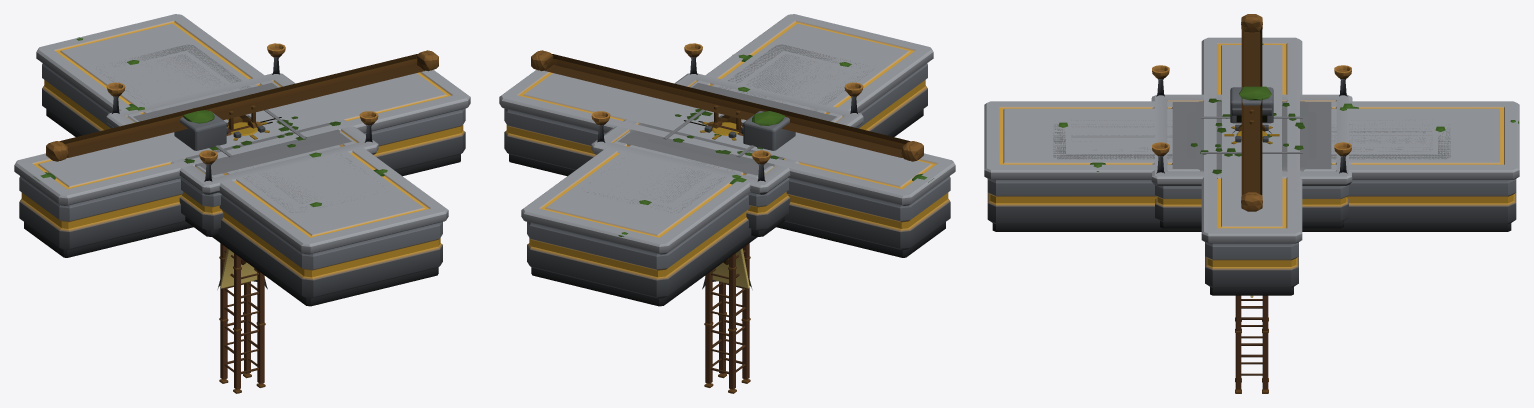
Rendered from temple-1-Dt1kCQQ2.glb.
The picture shows the model from 3 angles, left to right: view 1: azimuth 30°, elevation 25°; view 2: azimuth 150°, elevation 25°; view 3: azimuth 270°, elevation 25°; orthographic projection.
Parts seen in each view (by area): view 1: block_10x2x32_column#0, block_28x2x6#0, pad_12x2x12#0, mount_12.5#0, truss_16#0, mount_12.7#0, boltPost_#0, block_7x2x24#0, block_10x2x7#0, blade_3x10x1#0, block_7x2x8#0; view 2: block_10x2x32_column#0, block_28x2x6#0, pad_12x2x12#0, mount_12.5#0, truss_16#0, mount_12.7#0, block_7x2x24#0, boltPost_#0, block_10x2x7#0, blade_3x10x1#0, block_7x2x8#0; view 3: block_10x2x32_column#0, block_28x2x6#0, pad_12x2x12#0, mount_12.5#0, block_7x2x24#0, truss_16#0, block_10x2x7#0, boltPost_#0, mount_12.7#0, block_7x2x8#0.
Boxes of the visible parts, x1,y1,x2,y2 form: block_10x2x32_column#0: (36,14,448,306); block_28x2x6#0: (14,70,470,257); pad_12x2x12#0: (106,43,378,236); mount_12.5#0: (54,51,433,160); truss_16#0: (219,115,265,393); mount_12.7#0: (46,50,438,161); boltPost_#0: (174,108,228,150); block_7x2x24#0: (100,44,382,212); block_10x2x7#0: (186,123,339,166); blade_3x10x1#0: (220,115,264,288); block_7x2x8#0: (222,126,322,164); block_10x2x32_column#0: (521,14,933,306); block_28x2x6#0: (499,70,955,257); pad_12x2x12#0: (591,43,863,236); mount_12.5#0: (536,51,915,160); truss_16#0: (704,115,750,393); mount_12.7#0: (531,50,923,161); block_7x2x24#0: (582,44,873,212); boltPost_#0: (741,111,795,150); block_10x2x7#0: (630,123,784,166); blade_3x10x1#0: (705,115,749,288); block_7x2x8#0: (647,109,752,164); block_10x2x32_column#0: (984,101,1519,231); block_28x2x6#0: (1201,37,1302,295); pad_12x2x12#0: (1151,65,1352,228); mount_12.5#0: (1241,16,1262,201); block_7x2x24#0: (1053,120,1450,159); truss_16#0: (1235,124,1268,393); block_10x2x7#0: (1195,101,1308,171); boltPost_#0: (1230,86,1273,123); mount_12.7#0: (1241,14,1262,211); block_7x2x8#0: (1187,112,1316,159).
Size of the model in its own units: 28 by 18.58 by 32.
